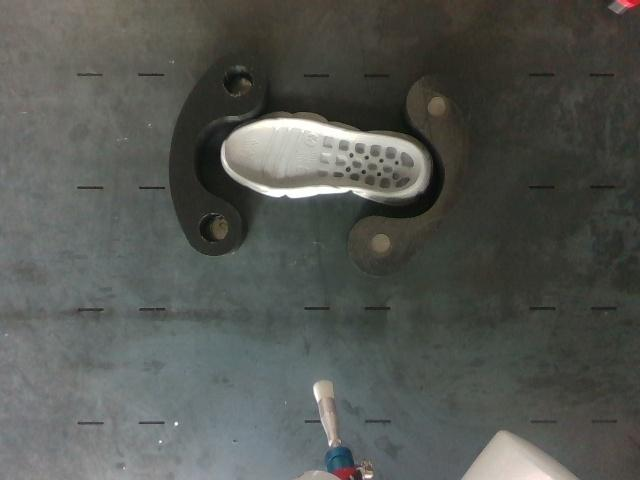shoes: (222, 119, 421, 193)
